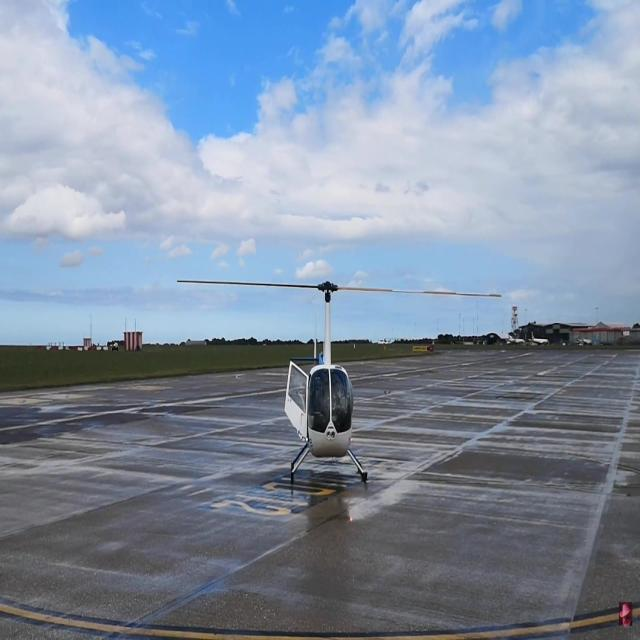CIV_HELO: (282, 278, 369, 484)
